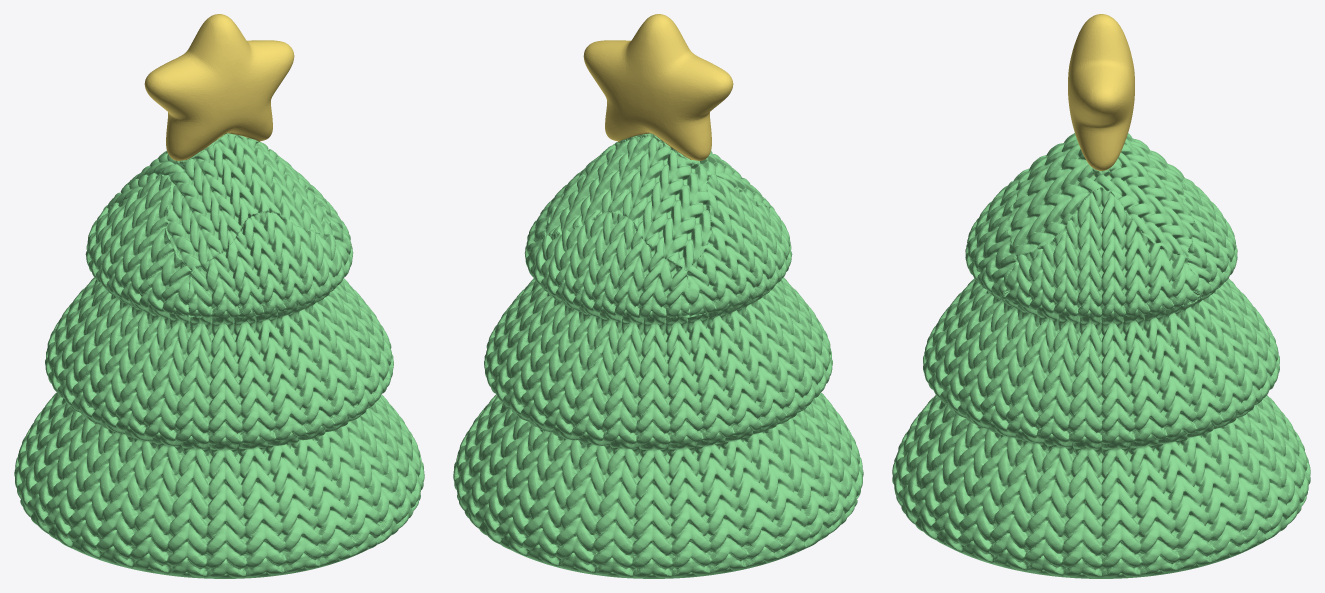
Rendered from arbol_tejido_armado.glb.
3 renders of one model, left to right at view 1: azimuth 30°, elevation 25°; view 2: azimuth 150°, elevation 25°; view 3: azimuth 270°, elevation 25°, orthographic.
Visible parts, largest first — view 1: arbol, estrella; view 2: arbol, estrella; view 3: arbol, estrella.
Boxes of the visible parts, left/top/right/bottom form: arbol: left=14, top=133, right=424, bottom=578; estrella: left=144, top=14, right=294, bottom=160; arbol: left=453, top=133, right=863, bottom=578; estrella: left=583, top=14, right=733, bottom=160; arbol: left=892, top=133, right=1310, bottom=578; estrella: left=1068, top=14, right=1134, bottom=175.
Bounding box in the file's own units: 0.0654 × 0.085 × 0.0666.
